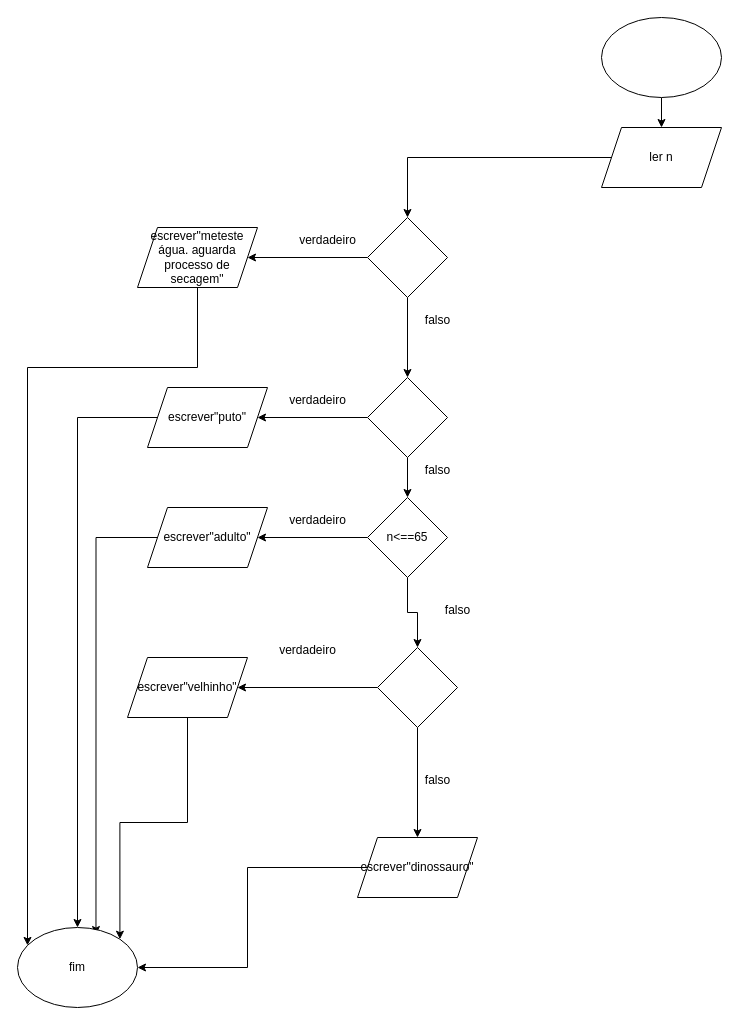
This 739x1025 diagram has some shape labels left out. Each missing label, with the box of its shape:
inicio: (600, 16, 722, 98)
n<0: (366, 216, 448, 298)
n<==149: (376, 646, 458, 728)
n<==17: (366, 376, 448, 458)
